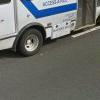Bus: (2, 3, 81, 53)
